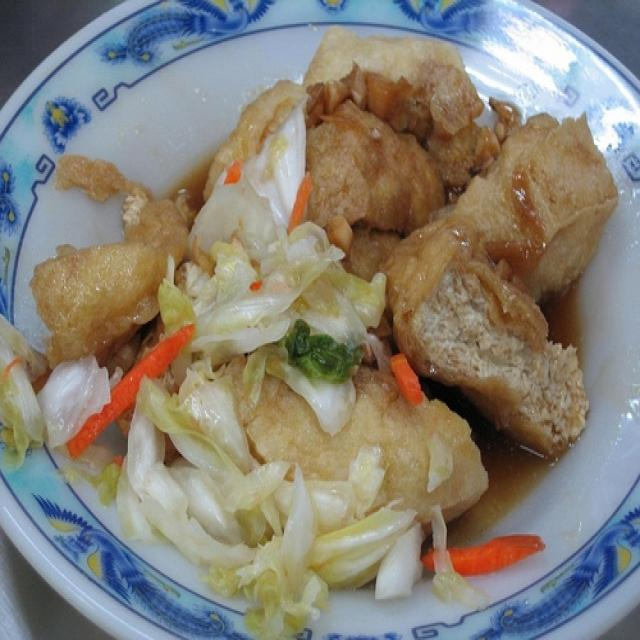豆腐料理: (12, 17, 631, 614)
